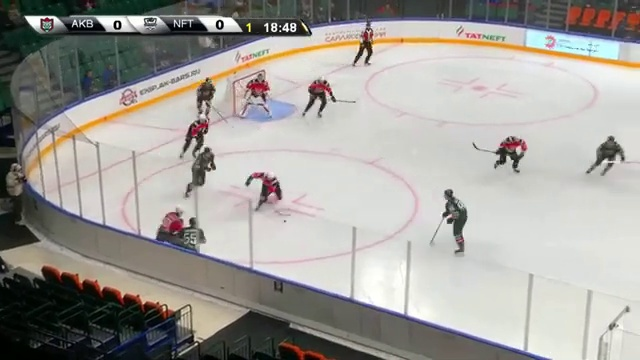gates: (429, 183, 473, 244), (179, 215, 221, 258), (180, 138, 216, 188), (188, 67, 226, 114), (600, 131, 622, 178)
referee: (237, 75, 278, 116)
team_1: (352, 21, 374, 67)
team_2: (162, 202, 205, 258), (259, 154, 300, 209), (238, 74, 283, 114), (489, 127, 532, 168), (188, 105, 222, 147), (310, 65, 340, 112)
